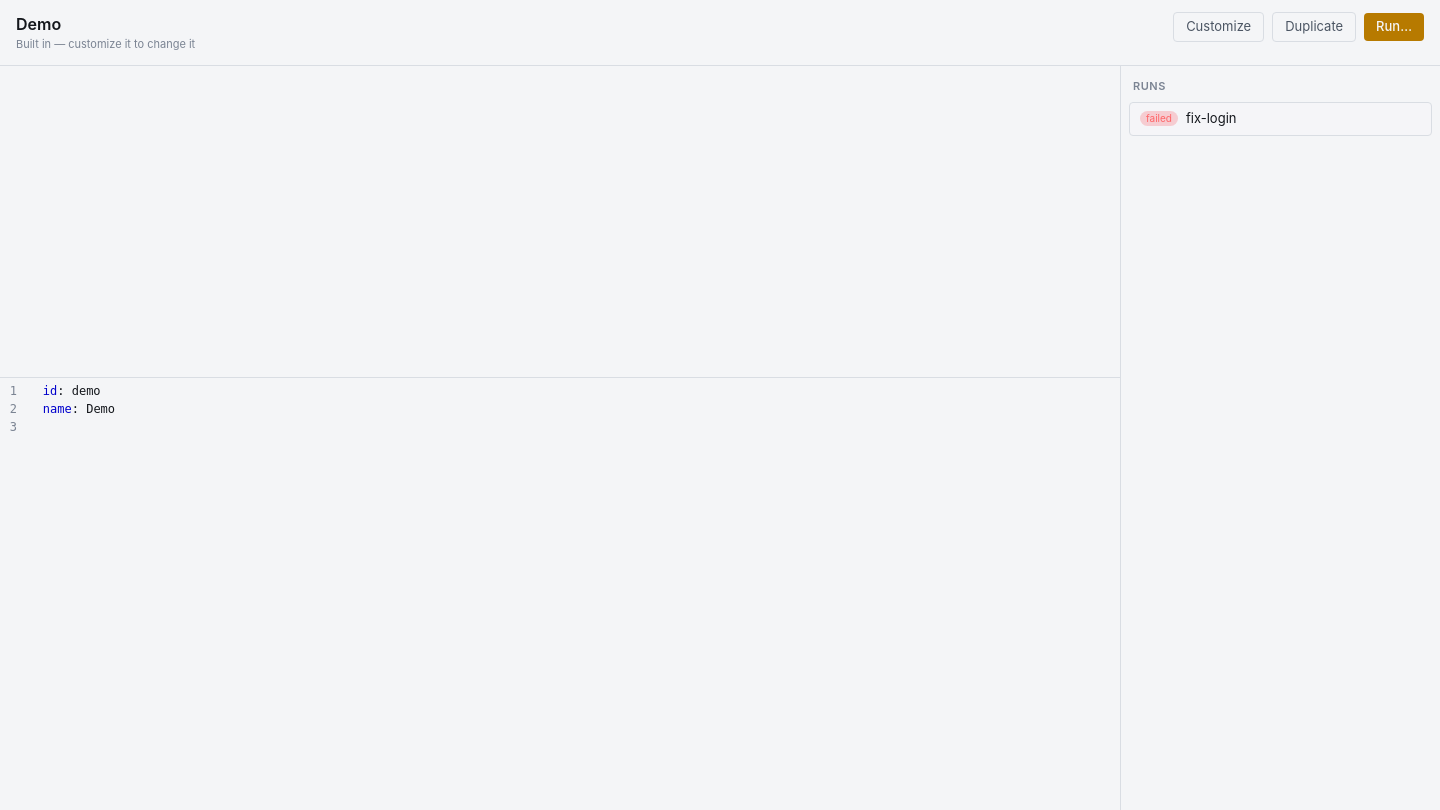
Scenario: WorkflowView › lists runs, and a run opens to its steps
Click the button with aria-label "Run in fix-login, failed" at (1159, 119), box [1130,103,1431,134]
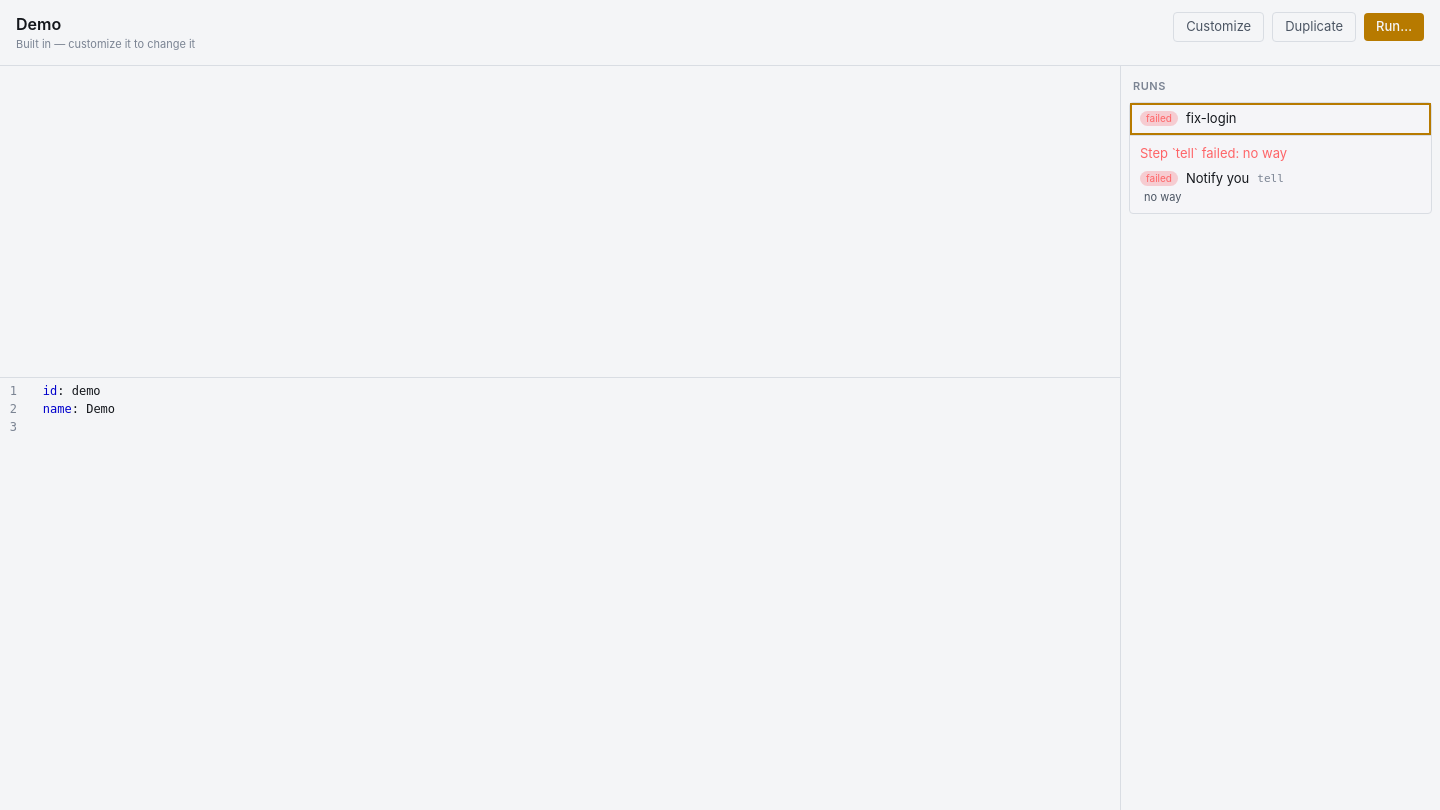
expect the text "no way" is shown: met, box [1144,190,1181,204]
expect the text "Notify you" is shown: met, box [1186,169,1249,188]
